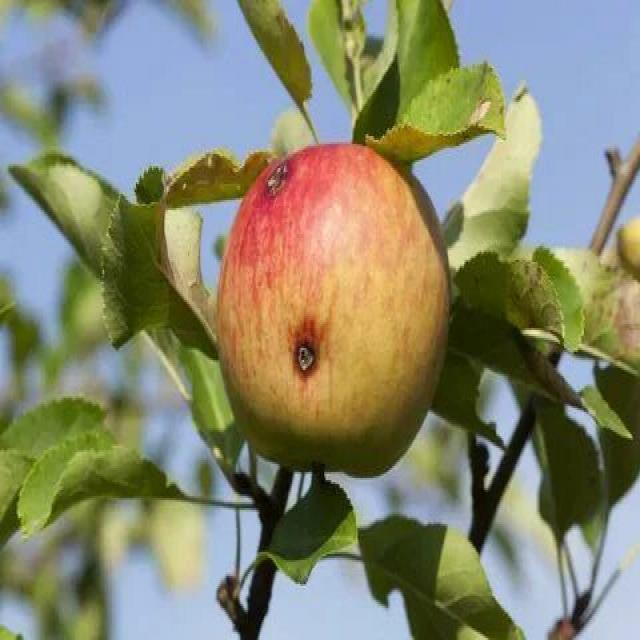Rotten: (205, 144, 460, 468)
